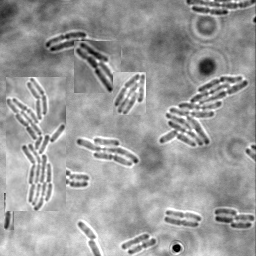Dividing: (128, 238, 157, 255), (166, 209, 202, 222), (164, 217, 200, 228), (192, 7, 229, 17), (4, 193, 14, 230), (67, 175, 89, 189)
Microcolony: (6, 77, 66, 211), (158, 76, 249, 147), (74, 41, 121, 93), (76, 137, 139, 168), (45, 32, 121, 57), (113, 72, 146, 115), (214, 208, 255, 229)
Rod: (121, 233, 150, 251), (78, 222, 99, 240), (69, 174, 90, 183)
